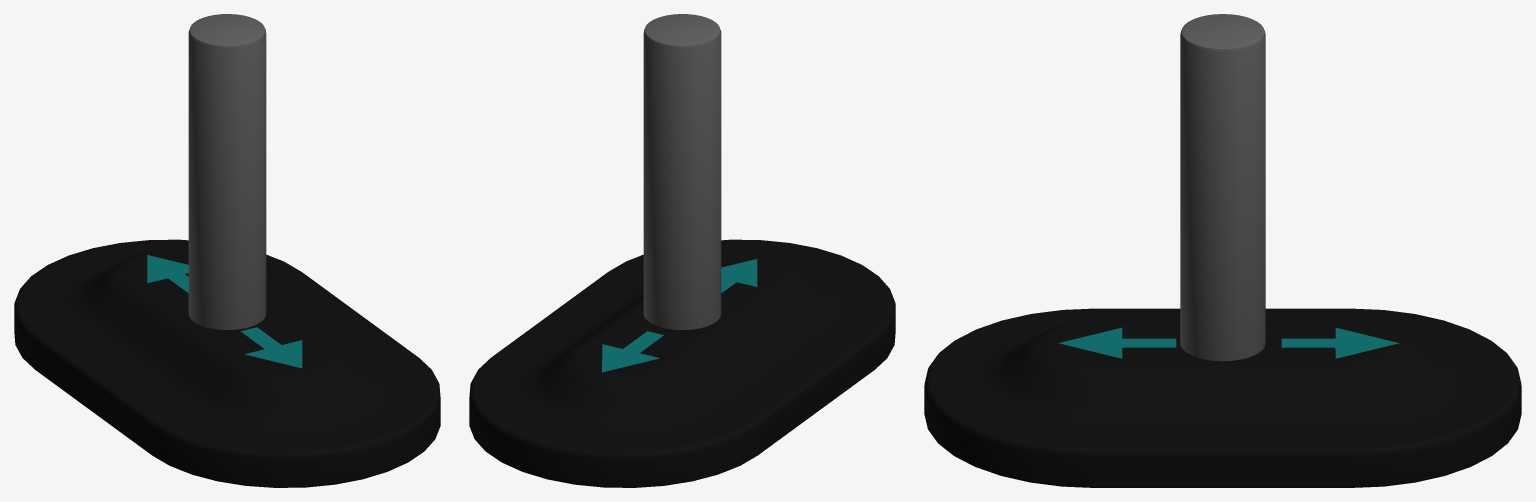
The model's file is Slider.FBX.
3 renders of one model, left to right at view 1: azimuth 30°, elevation 25°; view 2: azimuth 150°, elevation 25°; view 3: azimuth 270°, elevation 25°, orthographic. The views are drawn at different scales.
Visible parts, largest first — view 1: slider_base_element, slider_top, Arrow001, Arrow; view 2: slider_base_element, slider_top, Arrow, Arrow001; view 3: slider_base_element, slider_top, Arrow001, Arrow.
Part boxes in pixels (x1=…): slider_base_element: x1=14, y1=239, x2=440, y2=487; slider_top: x1=188, y1=14, x2=266, y2=329; Arrow001: x1=240, y1=327, x2=302, y2=368; Arrow: x1=147, y1=255, x2=188, y2=293; slider_base_element: x1=469, y1=239, x2=895, y2=487; slider_top: x1=643, y1=14, x2=721, y2=329; Arrow: x1=602, y1=331, x2=663, y2=372; Arrow001: x1=721, y1=259, x2=757, y2=292; slider_base_element: x1=924, y1=308, x2=1521, y2=487; slider_top: x1=1180, y1=14, x2=1265, y2=361; Arrow001: x1=1058, y1=327, x2=1176, y2=358; Arrow: x1=1281, y1=327, x2=1399, y2=358.
Size of the model in its own units: 80 by 99.94 by 140.
